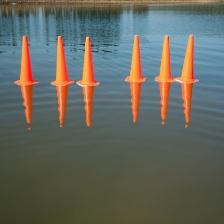traffic cone: (14, 35, 39, 87), (49, 36, 74, 87), (76, 36, 100, 88), (175, 34, 199, 84), (124, 35, 147, 84), (154, 35, 175, 83), (56, 85, 69, 129), (20, 85, 33, 126), (181, 83, 193, 126), (159, 82, 171, 124)
